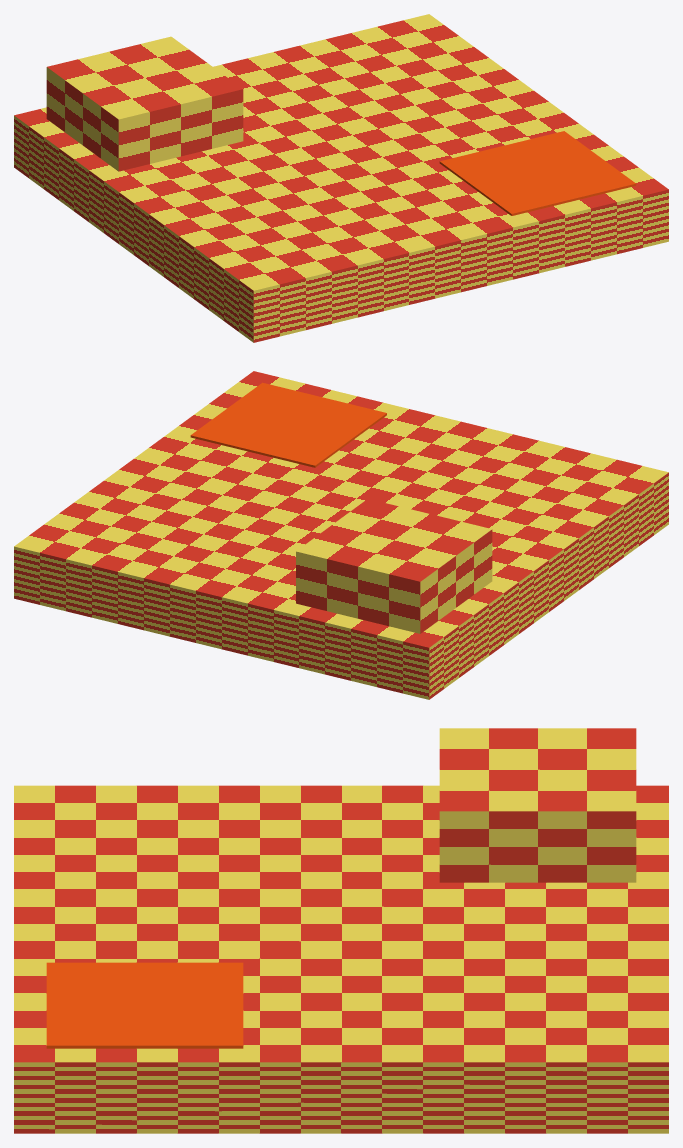
Rendered from platform.obj.
The picture shows the model from 3 angles, top to bottom: view 1: azimuth 30°, elevation 25°; view 2: azimuth 150°, elevation 25°; view 3: azimuth 270°, elevation 25°; orthographic projection. The views are drawn at different scales.
Bounding box in the file's own units: 1000 × 240 × 1000.
2 materials, 1 textured.
